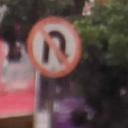NoVirarU: (28, 16, 82, 78)
